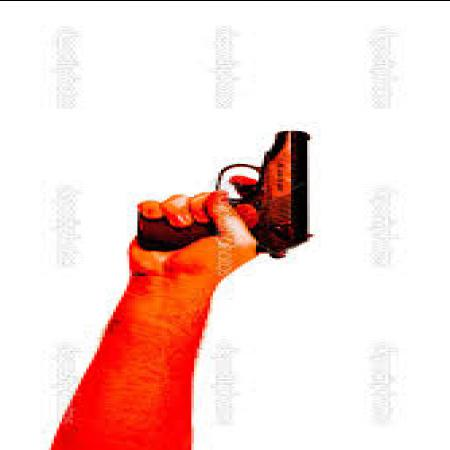Pistol: (138, 126, 317, 258)
